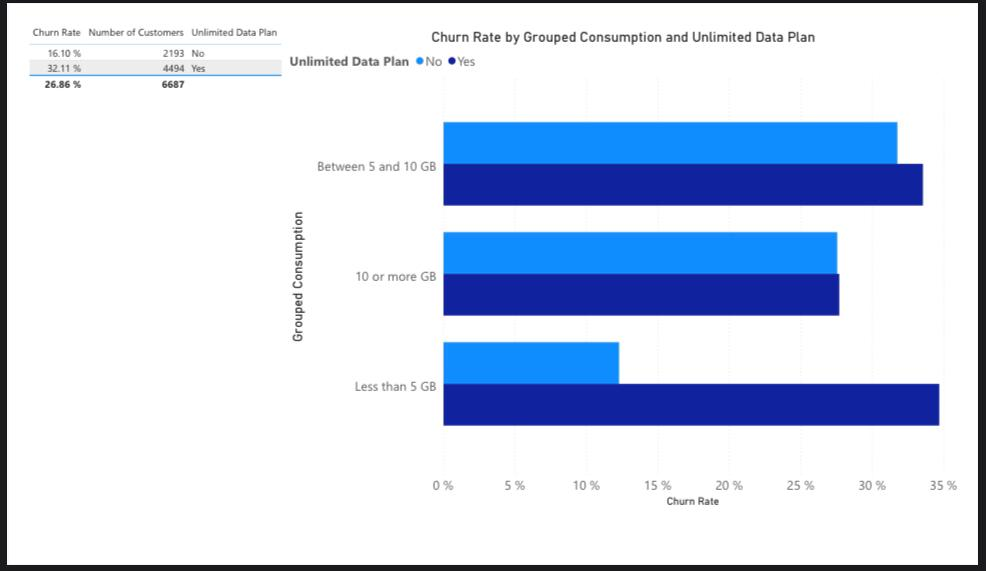

This screenshot's page, from the dashboard's own definition file:
{"tool":"powerbi","page":{"name":"Unlimited Plan","canvas":[1280,720],"ordinal":2},"visuals":[{"type":"tableEx","fields":{"Values":["Databel - Data.Churn Rate","Databel - Data.Number of Costumers","Databel - Data.Unlimited Data Plan"]},"box":[0,0,380.6,133.6],"z":0},{"type":"clusteredBarChart","fields":{"Category":["Databel - Data.Grouped Consumption"],"Y":["Databel - Data.Churn Rate"],"Series":["Databel - Data.Unlimited Data Plan"]},"box":[357.3,10.9,922.7,658.6],"z":1000}]}

Visuals, with their boxes in screenshot pixels (x1, y1, x2, y2), scaled from the page's 1280x720 canvas onto the 986x571 screenshot:
tableEx - Databel - Data.Churn Rate x Databel - Data.Number of Costumers: box=[0, 0, 293, 106]
clusteredBarChart - Databel - Data.Grouped Consumption x Databel - Data.Churn Rate: box=[275, 9, 985, 531]
